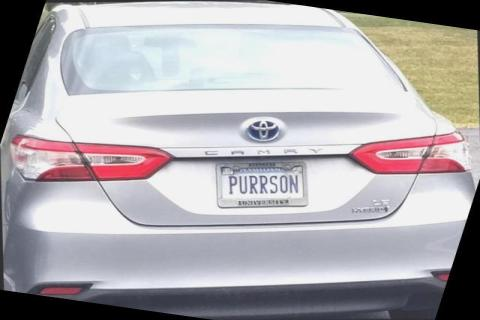LicensePlate: (213, 160, 307, 207)
